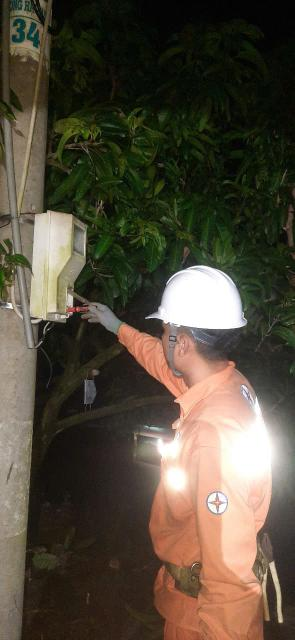gloves: (63, 293, 132, 339)
harness: (131, 532, 295, 608)
helmet: (138, 254, 273, 341)
